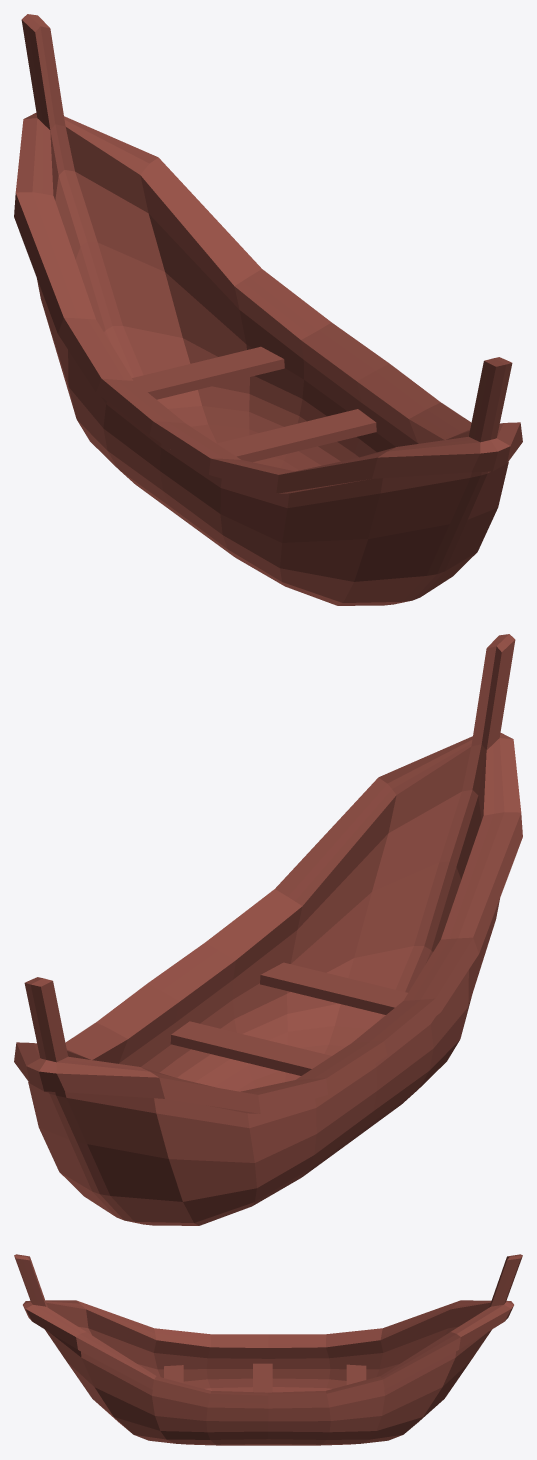
File: Boat.fbx
The picture shows the model from 3 angles, top to bottom: view 1: azimuth 30°, elevation 25°; view 2: azimuth 150°, elevation 25°; view 3: azimuth 270°, elevation 25°; orthographic projection. The views are drawn at different scales.
Visible parts, largest first — view 1: Sphere; view 2: Sphere; view 3: Sphere.
Boxes of the visible parts, bbox=[...] form: Sphere: bbox=[14, 14, 522, 605]; Sphere: bbox=[14, 634, 522, 1225]; Sphere: bbox=[14, 1254, 522, 1445].
Size of the model in its own units: 130 by 172 by 443.
